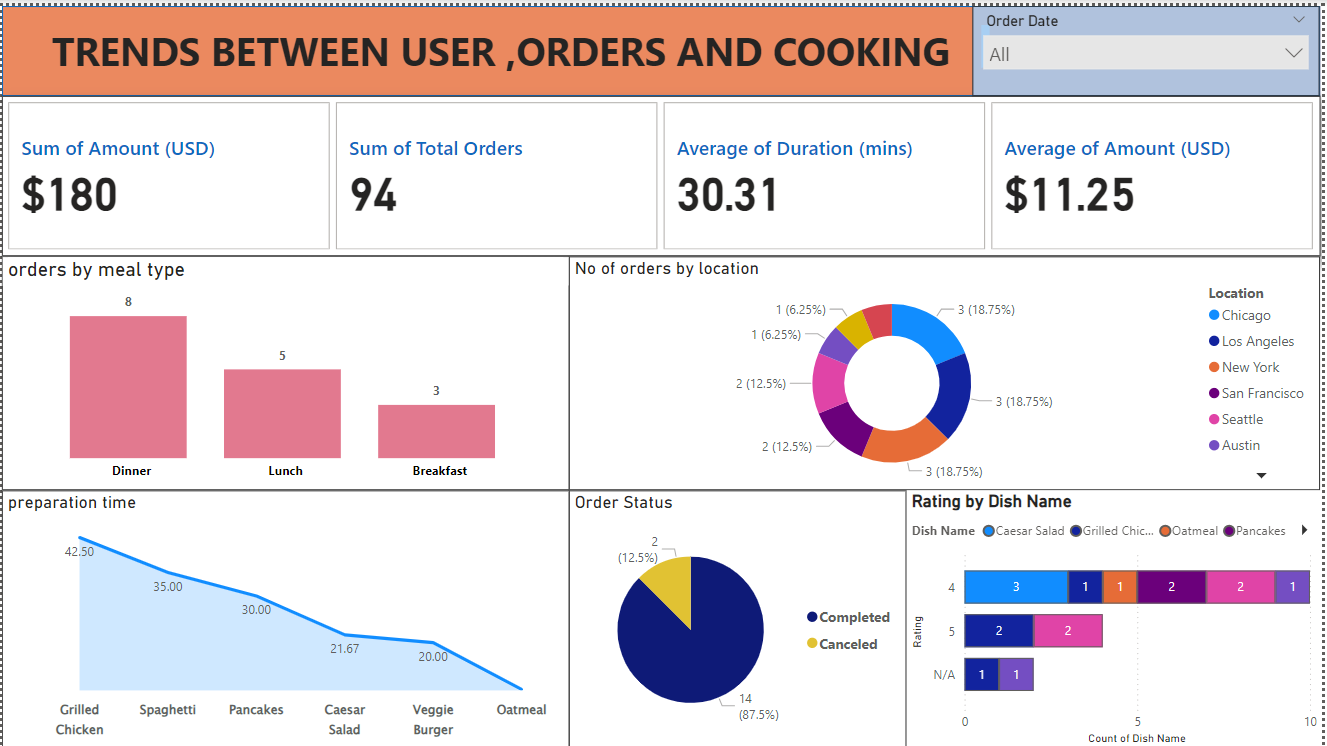

The page's visual inventory and layout, read from the dashboard file:
{"tool":"powerbi","page":{"name":"Page 1","canvas":[1280,720],"ordinal":0},"visuals":[{"type":"shape","box":[0,0,1279.2,87.4],"z":0},{"type":"textbox","box":[43.7,13,919.7,55.1],"z":1000},{"type":"cardVisual","fields":{"Data":["Sum(OrderDetails csv.Amount (USD))","Sum(UserDetails csv.Total Orders)","Avg(CookingSessions csv.Duration (mins))","Avg(OrderDetails csv.Amount (USD))"]},"box":[0,87.4,1279.2,155.4],"z":2000},{"type":"columnChart","title":"orders by meal type","fields":{"Category":["OrderDetails csv.Meal Type"],"Y":["CountNonNull(OrderDetails csv.Order ID)"]},"box":[0,242.9,550.5,226.7],"z":3000},{"type":"donutChart","title":"No of orders by location","fields":{"Category":["UserDetails csv.Location"],"Y":["CountNonNull(OrderDetails csv.Order ID)"]},"box":[550.5,242.9,728.7,226.7],"z":3001},{"type":"stackedAreaChart","title":"preparation time","fields":{"Category":["OrderDetails csv.Dish Name"],"Y":["Avg(CookingSessions csv.Duration (mins))"]},"box":[0,469.6,550.5,251],"z":3002},{"type":"pieChart","title":" Order Status","fields":{"Y":["CountNonNull(OrderDetails csv.Order ID)"],"Category":["OrderDetails csv.Order Status"]},"box":[550.5,469.6,327.1,251],"z":3003},{"type":"slicer","fields":{"Values":["OrderDetails csv.Order Date"]},"box":[942.4,0,336.8,87.4],"z":3004},{"type":"barChart","title":"Rating by Dish Name","fields":{"Category":["OrderDetails csv.Rating"],"Series":["OrderDetails csv.Dish Name"],"Y":["CountNonNull(OrderDetails csv.Dish Name)"]},"box":[877.6,469.6,403.2,251],"z":3005}]}

Visuals, with their boxes in screenshot pixels (x1, y1, x2, y2), scaled from the page's 1280x720 canvas onto the 1327x746 screenshot:
shape: 0 0 1326 91
textbox: 45 13 999 71
cardVisual - Sum(OrderDetails csv.Amount (USD)) x Sum(UserDetails csv.Total Orders): 0 91 1326 252
"orders by meal type" columnChart: 0 252 571 487
"No of orders by location" donutChart: 571 252 1326 487
"preparation time" stackedAreaChart: 0 487 571 745
" Order Status" pieChart: 571 487 910 745
slicer - OrderDetails csv.Order Date: 977 0 1326 91
"Rating by Dish Name" barChart: 910 487 1326 745
